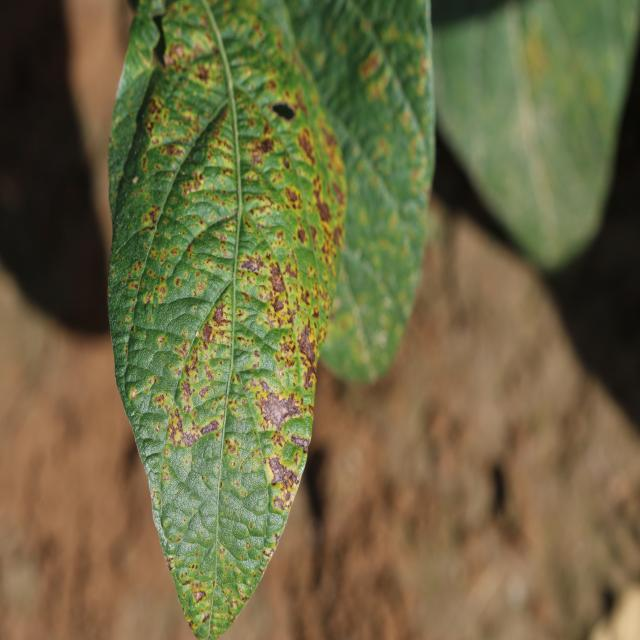Bacterial_Blight: (242, 361, 306, 438), (168, 389, 226, 452), (239, 244, 271, 304), (310, 175, 336, 234), (523, 26, 551, 77), (141, 269, 174, 307), (249, 135, 278, 166), (180, 168, 210, 196), (297, 126, 317, 163), (360, 51, 381, 78), (183, 350, 201, 381), (294, 88, 309, 118), (283, 467, 299, 489), (161, 143, 183, 158), (194, 63, 210, 82), (285, 186, 300, 206), (147, 98, 162, 117), (146, 205, 160, 225), (201, 321, 214, 342), (171, 43, 185, 62), (193, 589, 206, 603), (297, 227, 307, 244), (262, 546, 274, 559), (237, 585, 248, 599), (165, 556, 174, 572), (274, 497, 285, 510), (161, 469, 169, 483), (157, 335, 166, 347), (129, 388, 137, 401), (274, 531, 281, 544), (202, 612, 210, 623), (197, 280, 204, 292), (219, 545, 226, 555), (129, 324, 135, 335), (245, 541, 252, 550), (164, 447, 170, 457), (176, 533, 182, 542), (219, 480, 224, 489)
Soybean: (108, 0, 326, 640)
